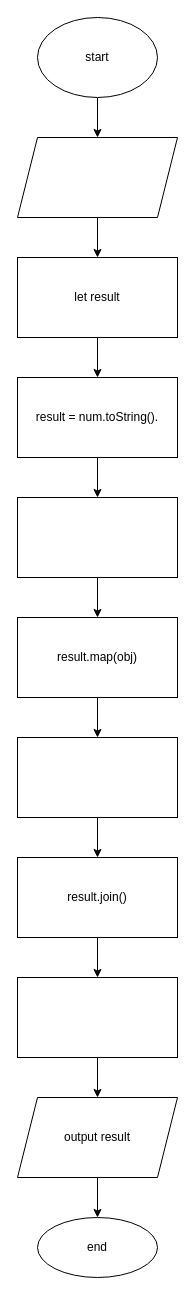
The diagram is 195 pixels wide and 1295 high, and some of its shapes have lost their labels. Each missing label, with the centre of its shape:
"+result" goes at [97,1017].
"input num" goes at [97,177].
"obj.split('').sort().join()" goes at [97,777].
"result.split('0')" goes at [97,537].
